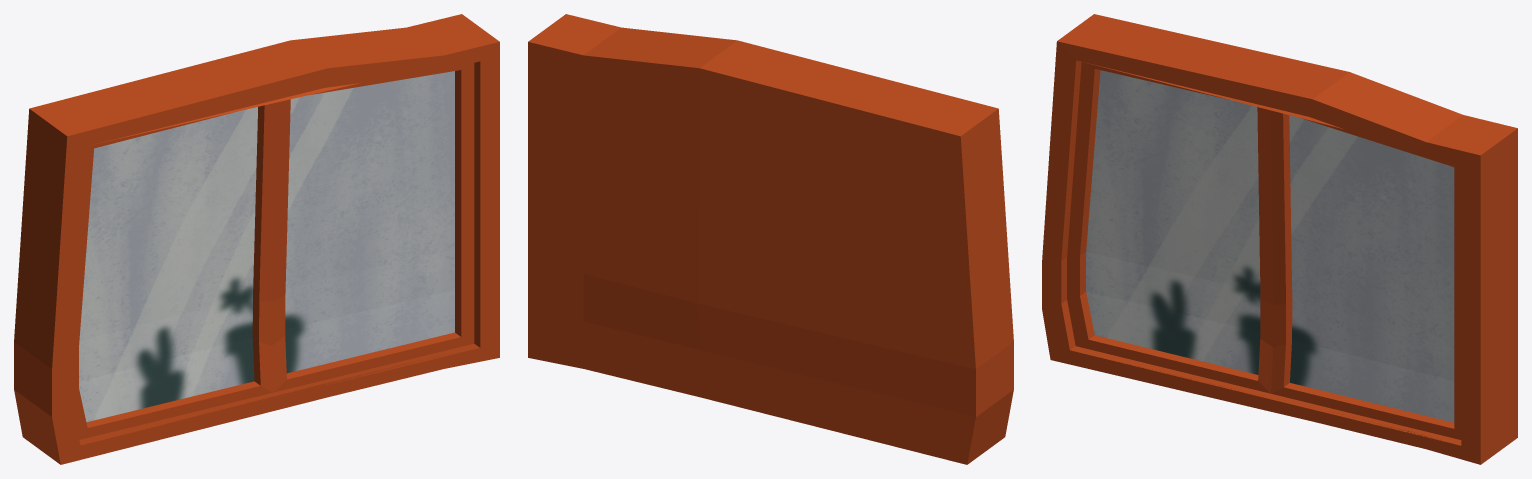
Rendered from Window10.fbx.
The picture shows the model from 3 angles, left to right: view 1: azimuth 30°, elevation 25°; view 2: azimuth 150°, elevation 25°; view 3: azimuth 330°, elevation 25°; orthographic projection. The views are drawn at different scales.
Visible parts, largest first — view 1: Cube.079; view 2: Cube.079; view 3: Cube.079.
Boxes of the visible parts, bbox=[...] form: Cube.079: bbox=[14, 14, 499, 464]; Cube.079: bbox=[528, 14, 1013, 464]; Cube.079: bbox=[1042, 14, 1517, 464].
Bounding box in the file's own units: 167 × 118 × 25.9.
